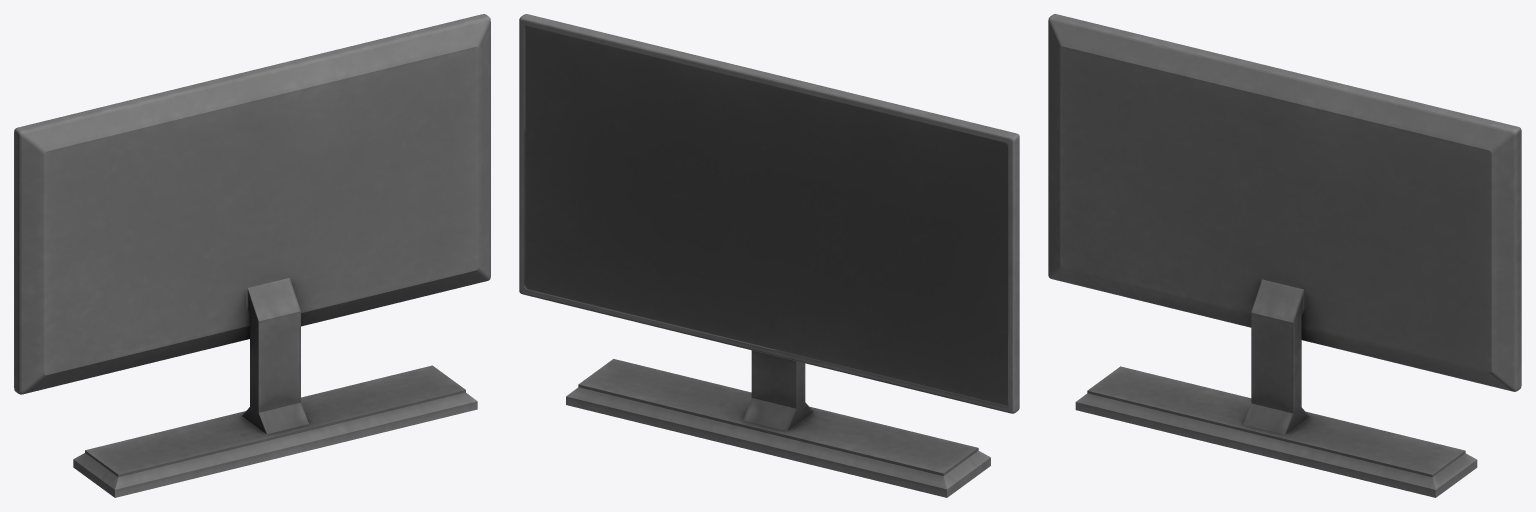
The model's file is Tv 24 Inch.FBX.
The picture shows the model from 3 angles, left to right: view 1: azimuth 30°, elevation 25°; view 2: azimuth 150°, elevation 25°; view 3: azimuth 330°, elevation 25°; orthographic projection. The views are drawn at different scales.
Visible parts, largest first — view 1: TV 24 inch; view 2: TV 24 inch (×2); view 3: TV 24 inch.
Part boxes in pixels (x1,y1,x2,y2): TV 24 inch: (14,14,490,497); TV 24 inch (×2): (519,14,1019,497); TV 24 inch: (1048,14,1521,497).
Bounding box in the file's own units: 0.8497 × 0.1301 × 0.6125.
